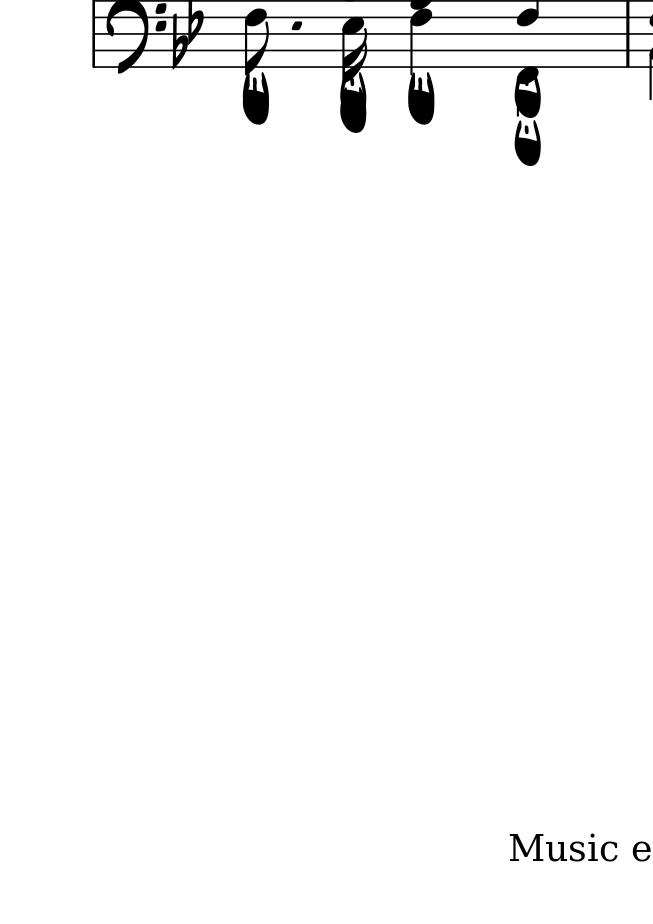16_5: (340, 1, 370, 81)
8_6: (244, 1, 271, 73)
Fclef: (102, 1, 167, 80)
Single_barline: (85, 2, 102, 66), (620, 1, 636, 69)
